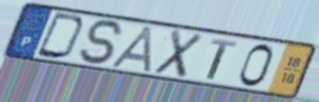0: (237, 43, 276, 88)
A: (107, 25, 155, 75)
D: (33, 11, 88, 61)
S: (78, 18, 127, 67)
T: (206, 36, 240, 81)
X: (151, 27, 206, 80)
